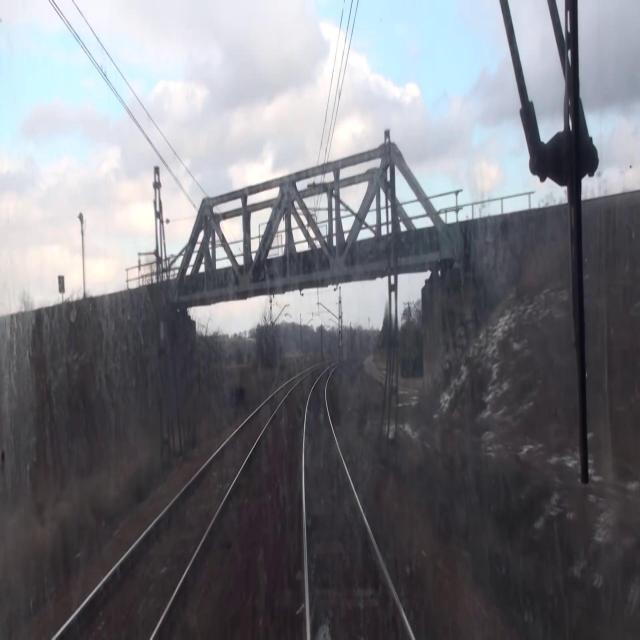rail-track: (306, 370, 410, 639)
